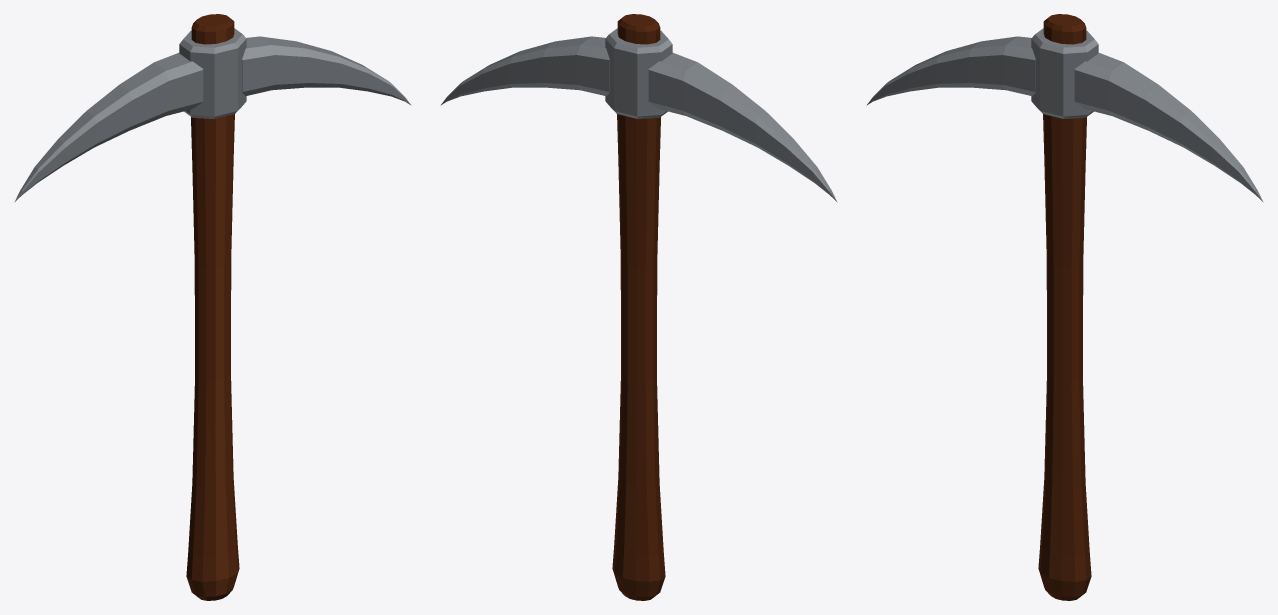
The model's file is Mining Pickaxe.obj.
3 renders of one model, left to right at view 1: azimuth 30°, elevation 25°; view 2: azimuth 150°, elevation 25°; view 3: azimuth 330°, elevation 25°, orthographic.
Parts seen in each view (by area): view 1: Mining_Pickaxe.Static; view 2: Mining_Pickaxe.Static; view 3: Mining_Pickaxe.Static.
Boxes of the visible parts, left/top/right/bottom form: Mining_Pickaxe.Static: left=14, top=14, right=411, bottom=600; Mining_Pickaxe.Static: left=440, top=14, right=837, bottom=600; Mining_Pickaxe.Static: left=866, top=14, right=1263, bottom=600.
Bounding box in the file's own units: 0.81 × 1.12 × 0.0942.
